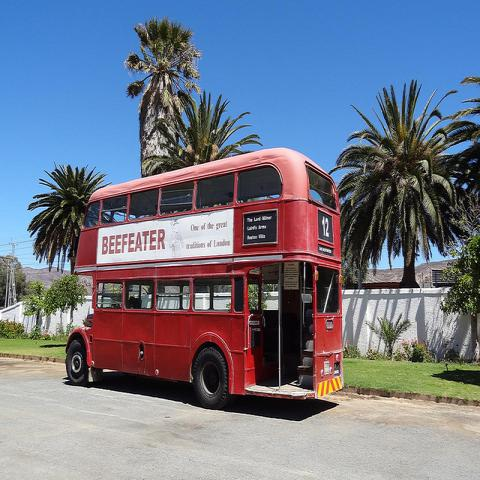bus: (61, 143, 346, 409)
